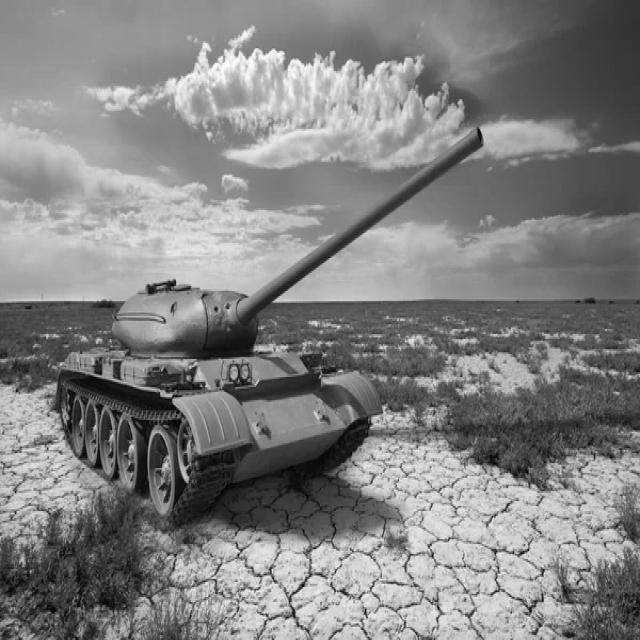Tank: (52, 122, 496, 530)
